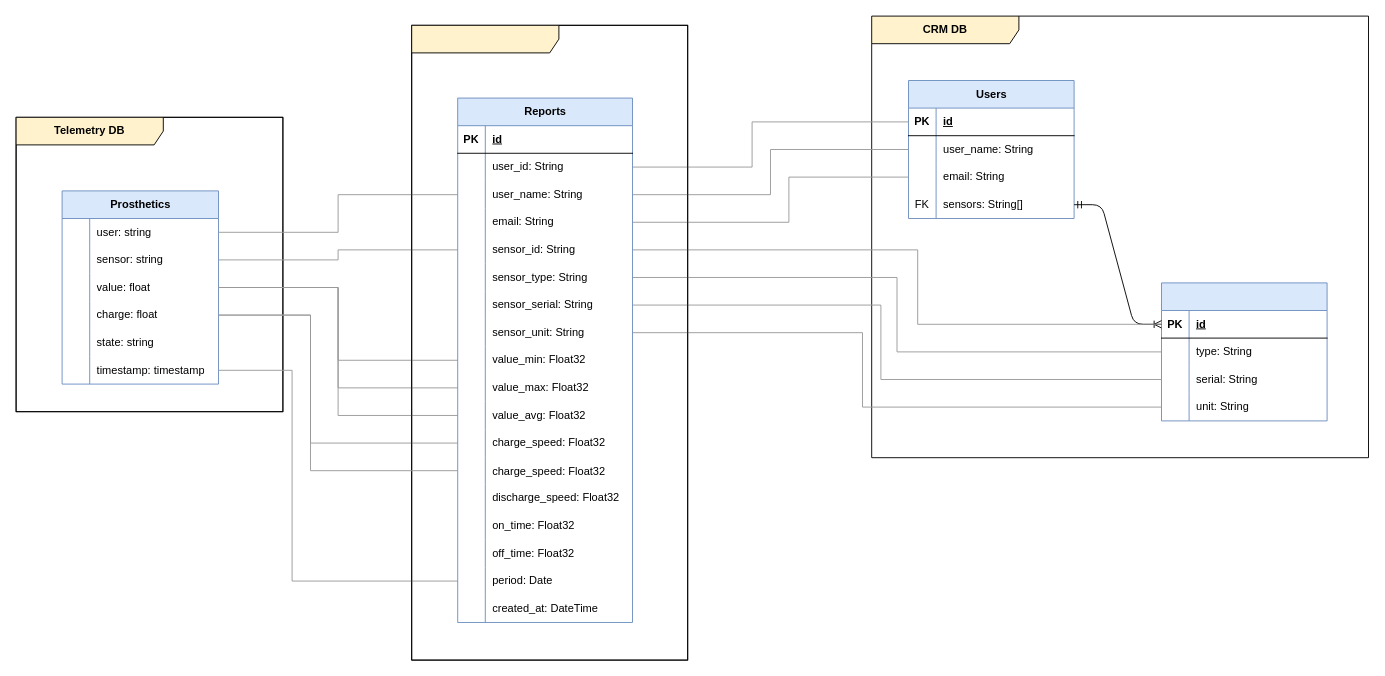
This 1385x676 diagram has some shape labels left out. Each missing label, with the box of its shape:
OLAP DB: (411, 24, 688, 660)
Sensors: (1161, 282, 1327, 421)
